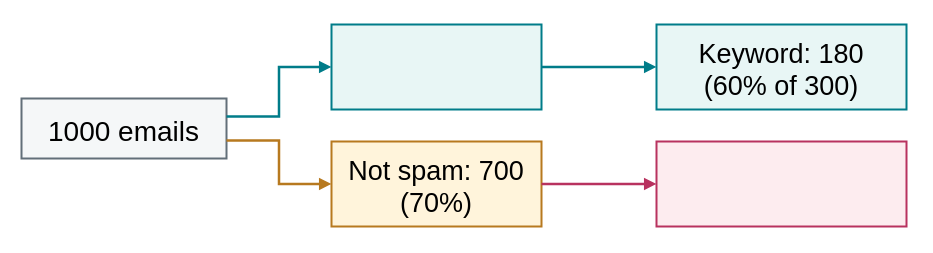
Image size: 933x253. Some labels were removed from this diagram. The box of each missing label's shape, as (x1, y1, x2, y2) in pixels:
Keyword: 140 (20% of 700): (655, 140, 907, 227)
Spam: 300 (30%): (330, 23, 542, 110)
